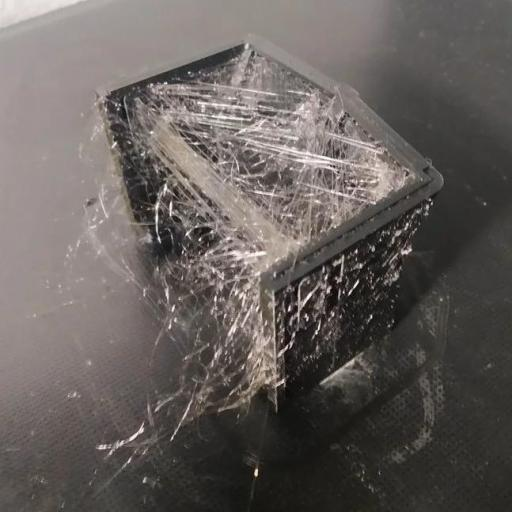stringing: (161, 208, 260, 418), (207, 78, 357, 209)
